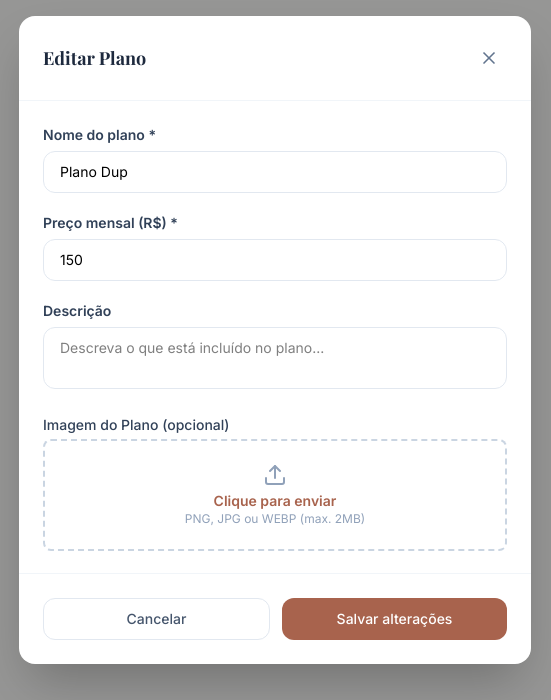
it: components/SubscriptionPlanModal — validações client-side › bloqueia salvar com procedimento duplicado entre itens
Click the button "Salvar alterações" at (394, 619), box [282, 598, 507, 640]
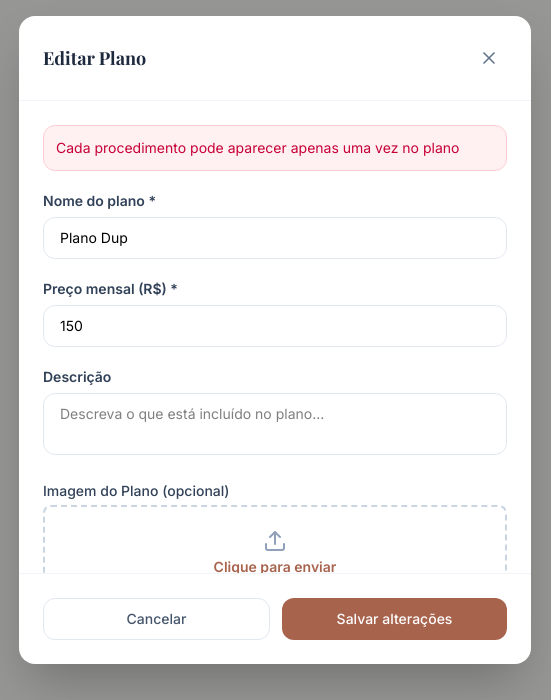
Check: the text "Cada procedimento pode aparecer apenas uma vez no plano" is shown, box [43, 125, 507, 171]
